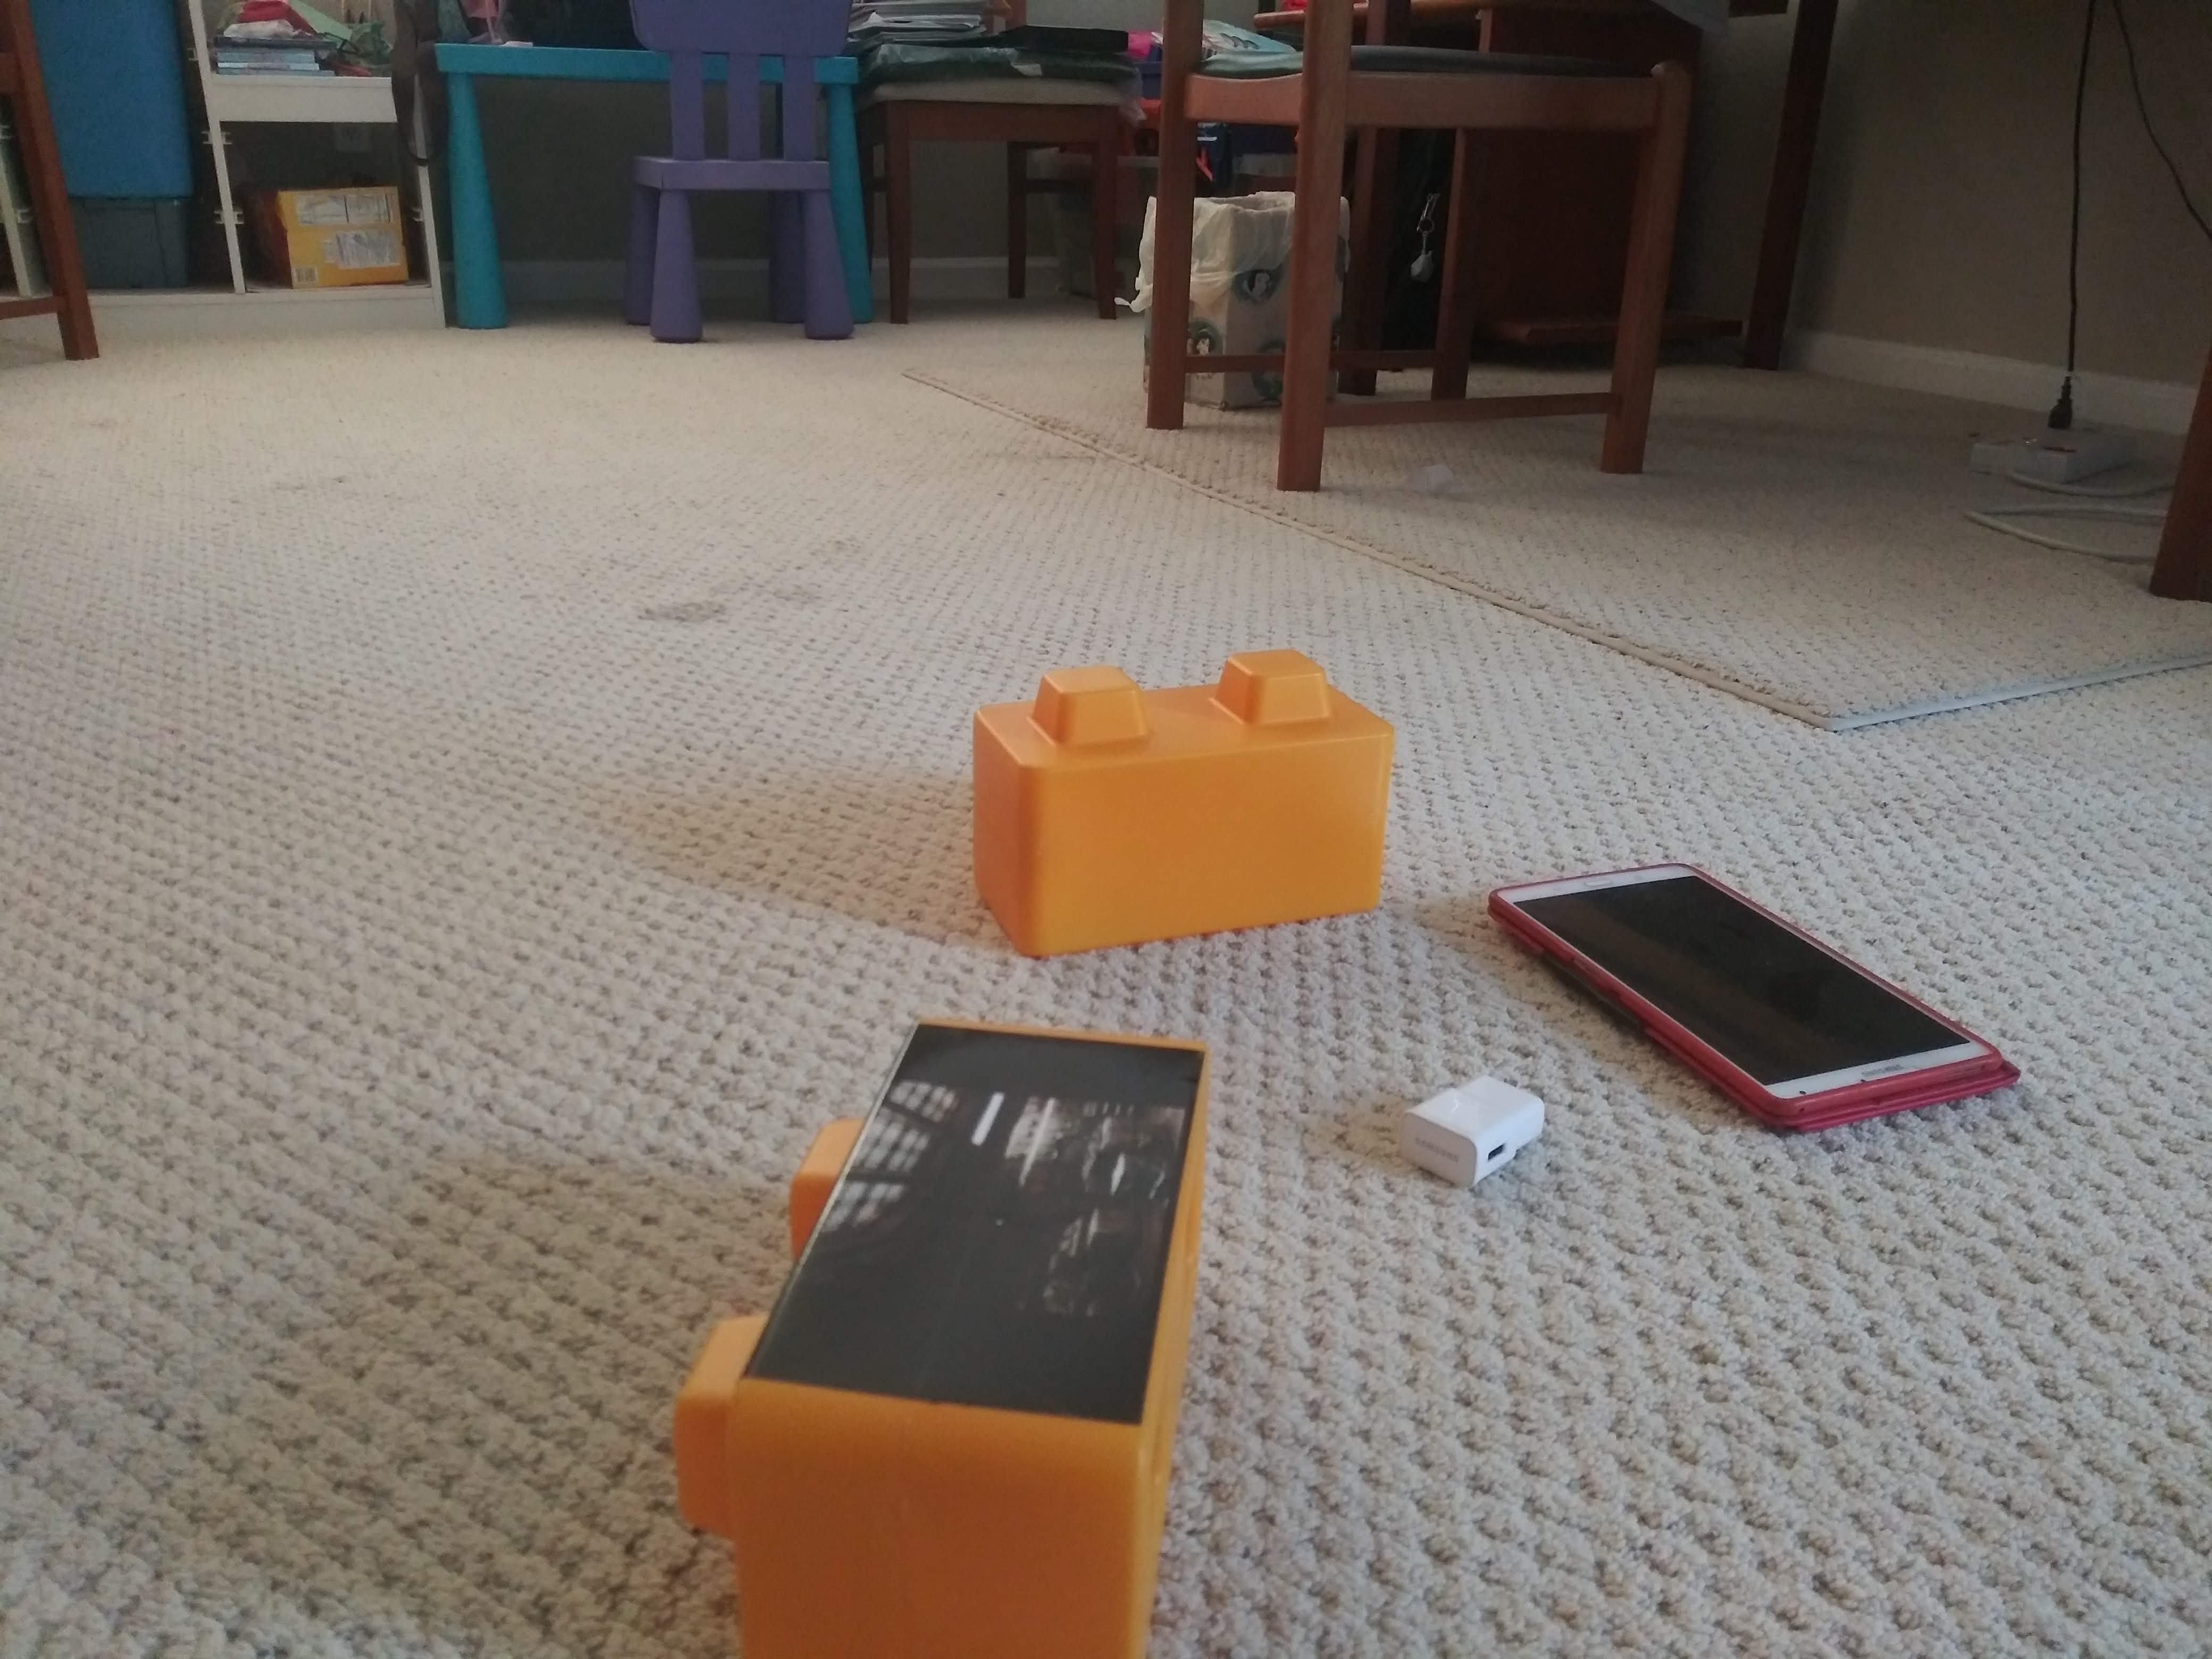skystone: (735, 1033, 1169, 1649)
stone: (975, 690, 1388, 934)
